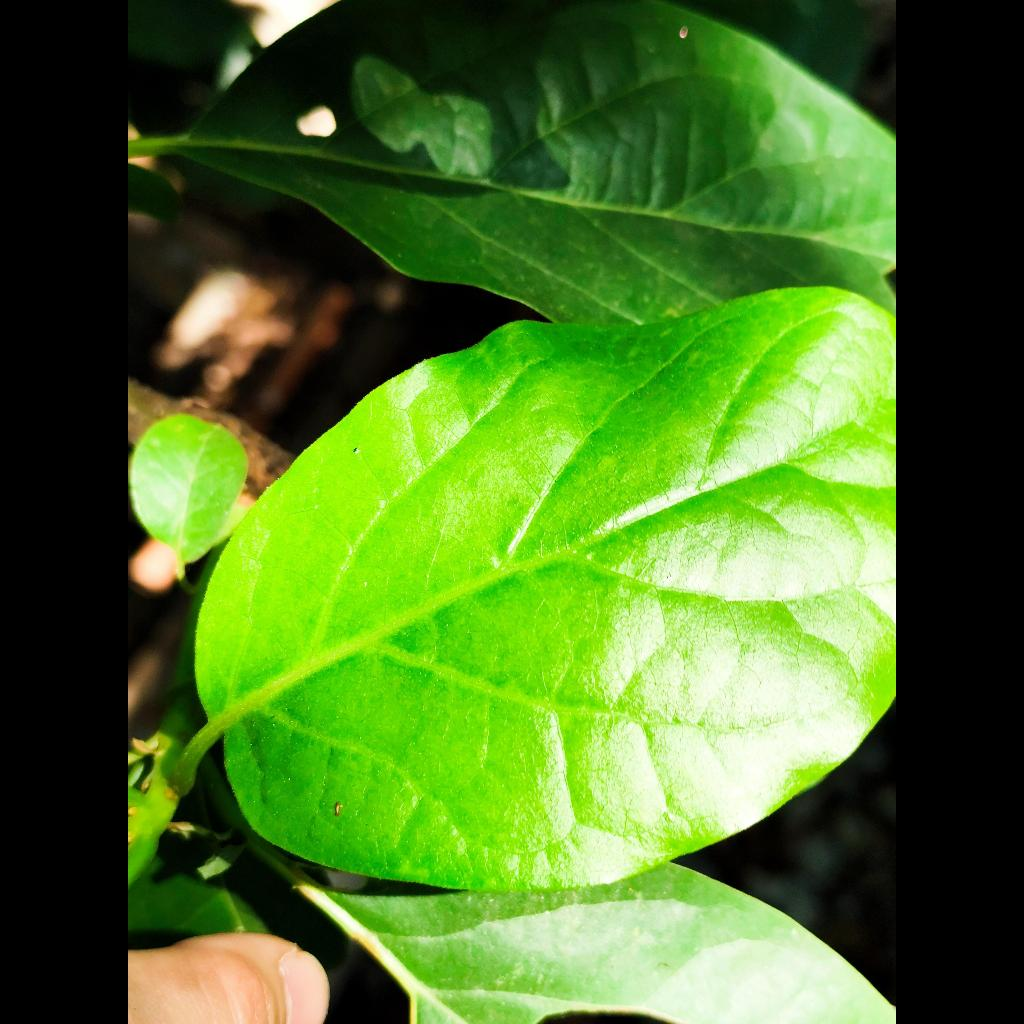Healthy: (192, 288, 896, 891)
